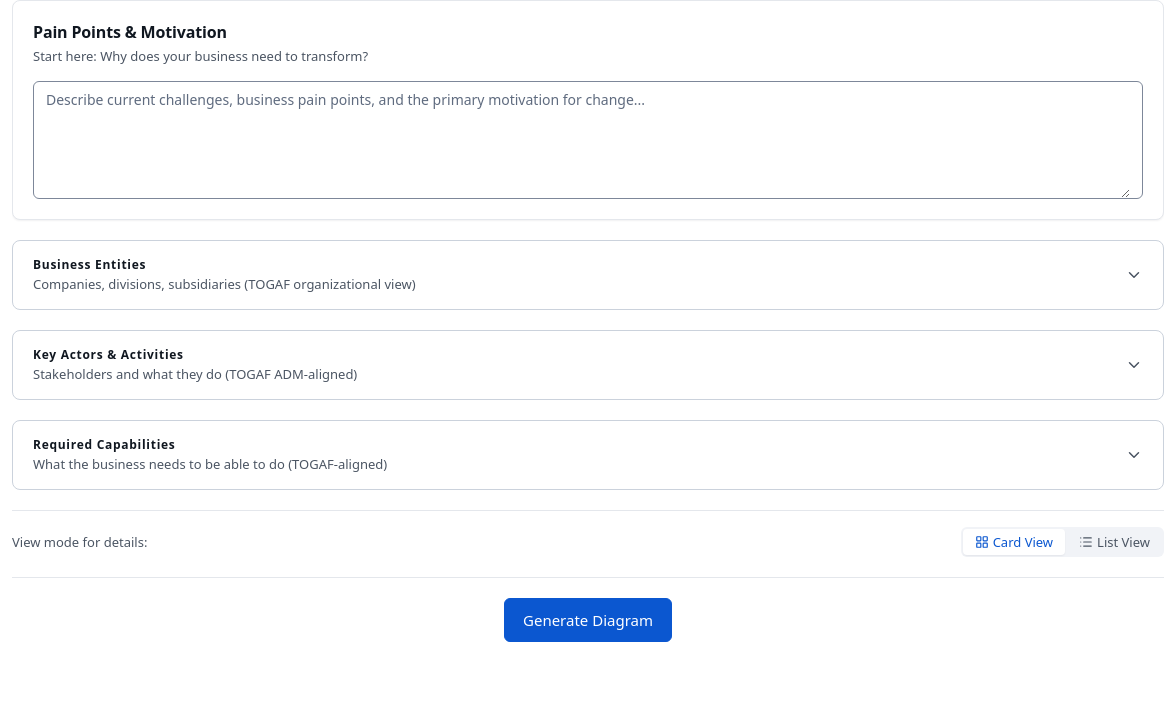
it: ARIA Labels - Icon-Only Buttons › BusinessContextTab › has aria-label on actor card remove button
The image size is (1176, 720).
Step 1. Click the button "Key Actors & Activities" → (108,354), box left=13, top=331, right=1163, bottom=399
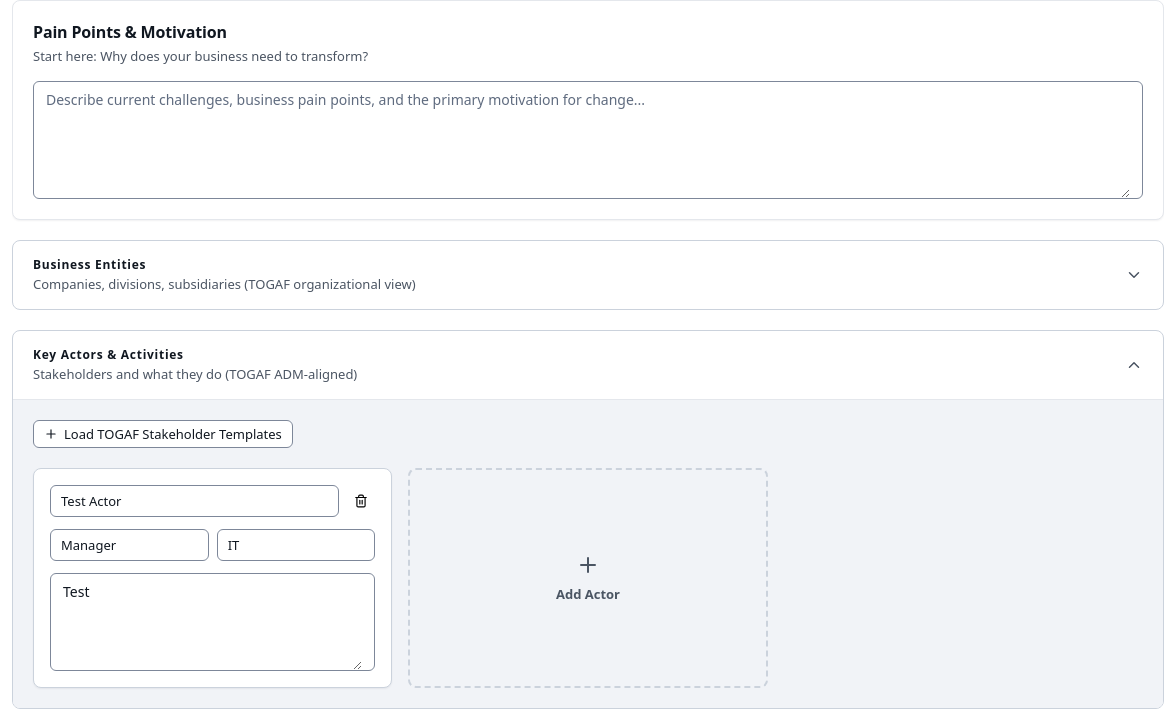
Check: the button named "remove actor test actor" is shown, box left=347, top=487, right=375, bottom=515
